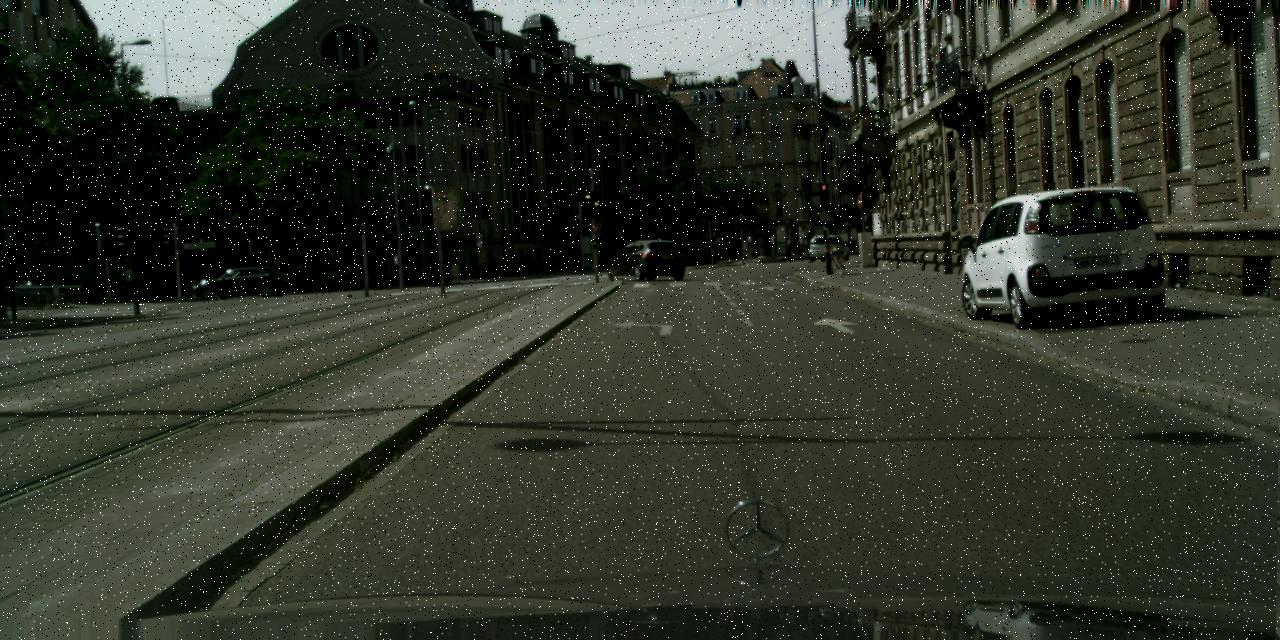ped: (744, 240, 752, 261)
